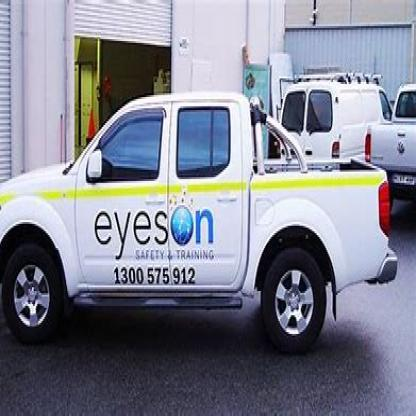light_vehicle: (15, 84, 399, 362)
